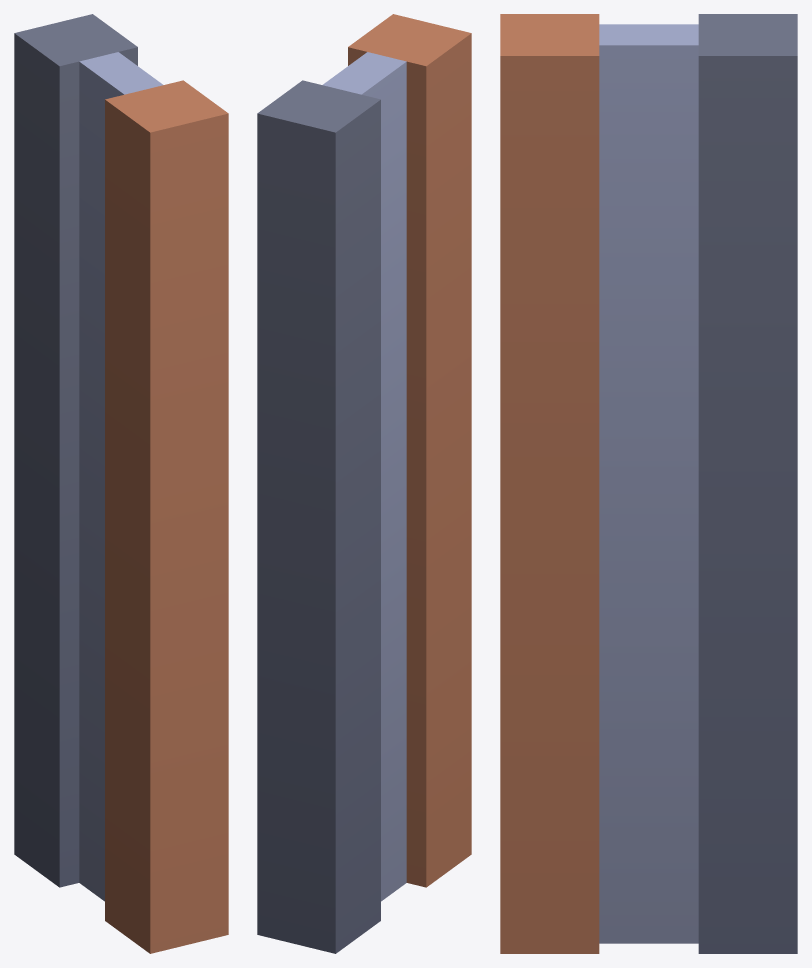
The model's file is wall-arch.glb.
3 renders of one model, left to right at view 1: azimuth 30°, elevation 25°; view 2: azimuth 150°, elevation 25°; view 3: azimuth 270°, elevation 25°, orthographic. The views are drawn at different scales.
Parts seen in each view (by area): view 1: wall-arch; view 2: wall-arch; view 3: wall-arch.
Boxes of the visible parts, x1,y1,x2,y2 form: wall-arch: (14,14,228,953); wall-arch: (257,14,471,953); wall-arch: (500,14,797,953).
Size of the model in its own units: 0.1 by 1 by 0.3.
Materials: 1 (1 with a texture image).
